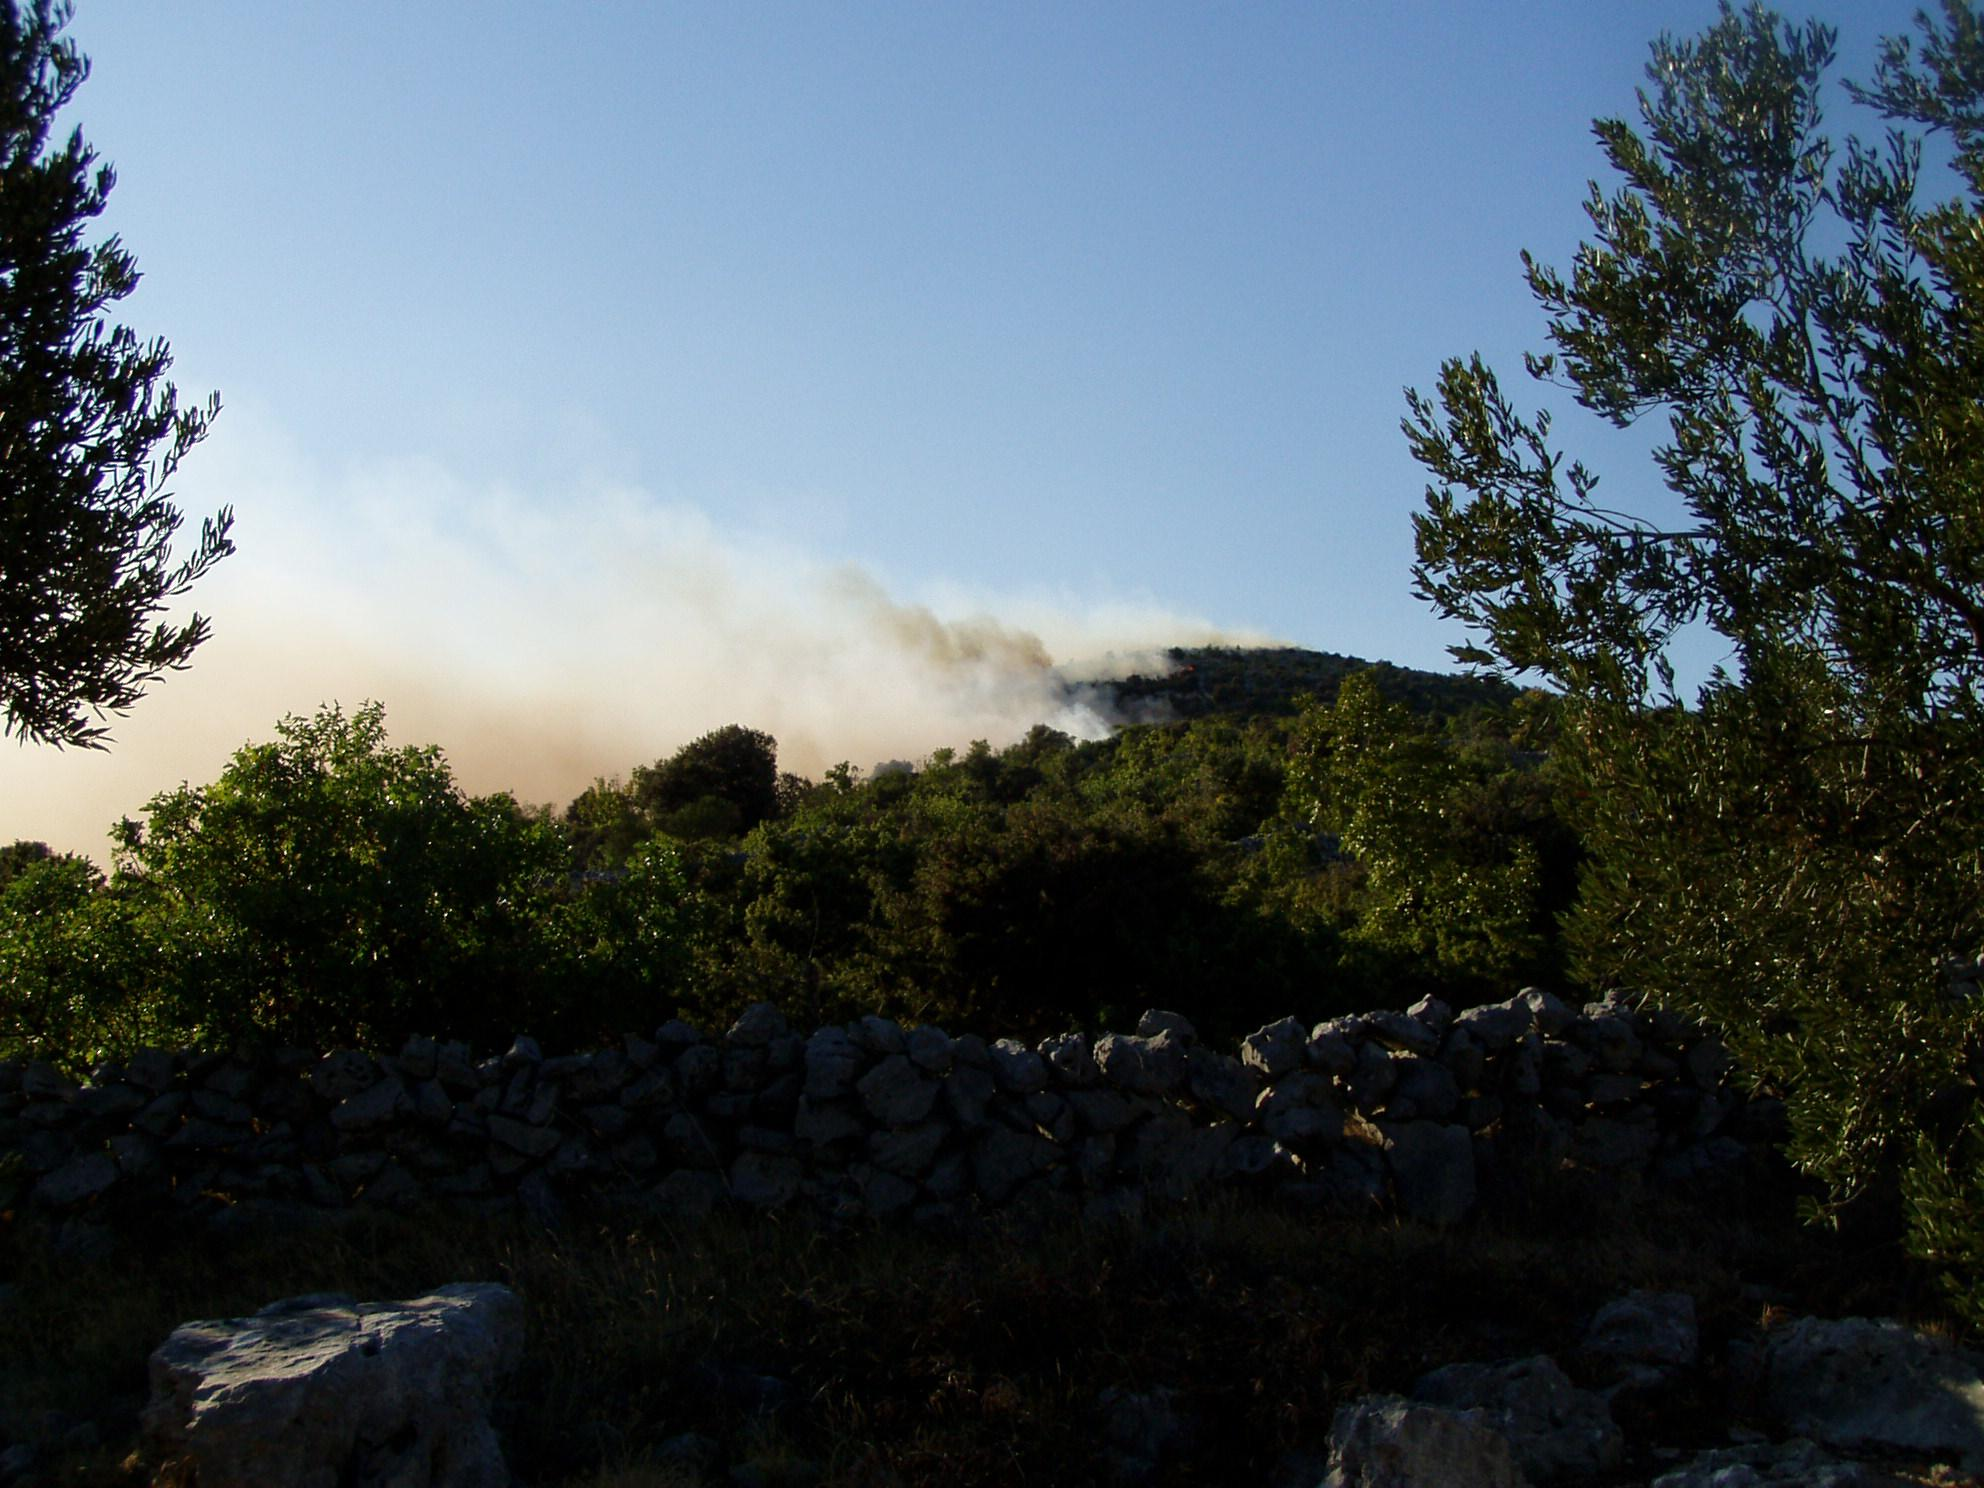Smoke: (212, 461, 1279, 774)
